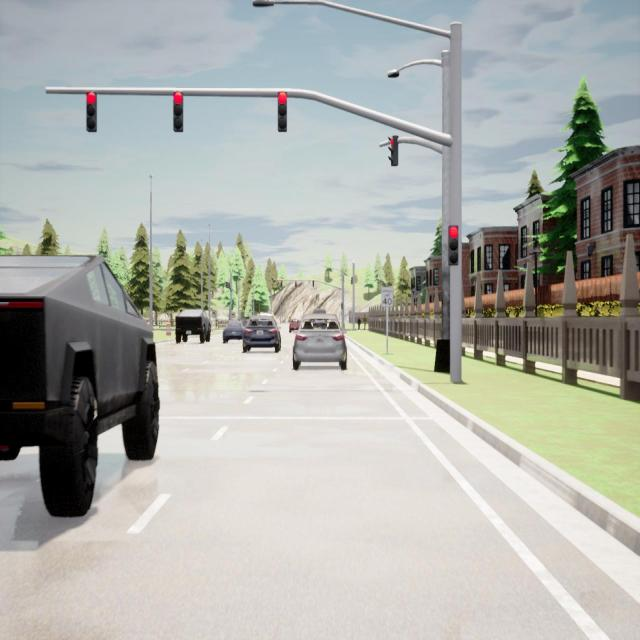Pedestrian: (362, 314, 367, 330), (358, 316, 362, 329)
Traffic_Signs: (382, 287, 393, 306)
Vehicle: (0, 254, 158, 530), (292, 314, 348, 370), (242, 314, 281, 352), (175, 308, 211, 344), (223, 320, 244, 344), (290, 318, 300, 333), (311, 309, 326, 314)
traffic_light: (86, 92, 97, 133), (173, 91, 183, 132), (448, 225, 458, 265), (278, 91, 287, 132), (388, 136, 398, 166), (350, 278, 353, 284), (295, 280, 297, 288), (280, 280, 282, 287), (312, 280, 314, 287)
